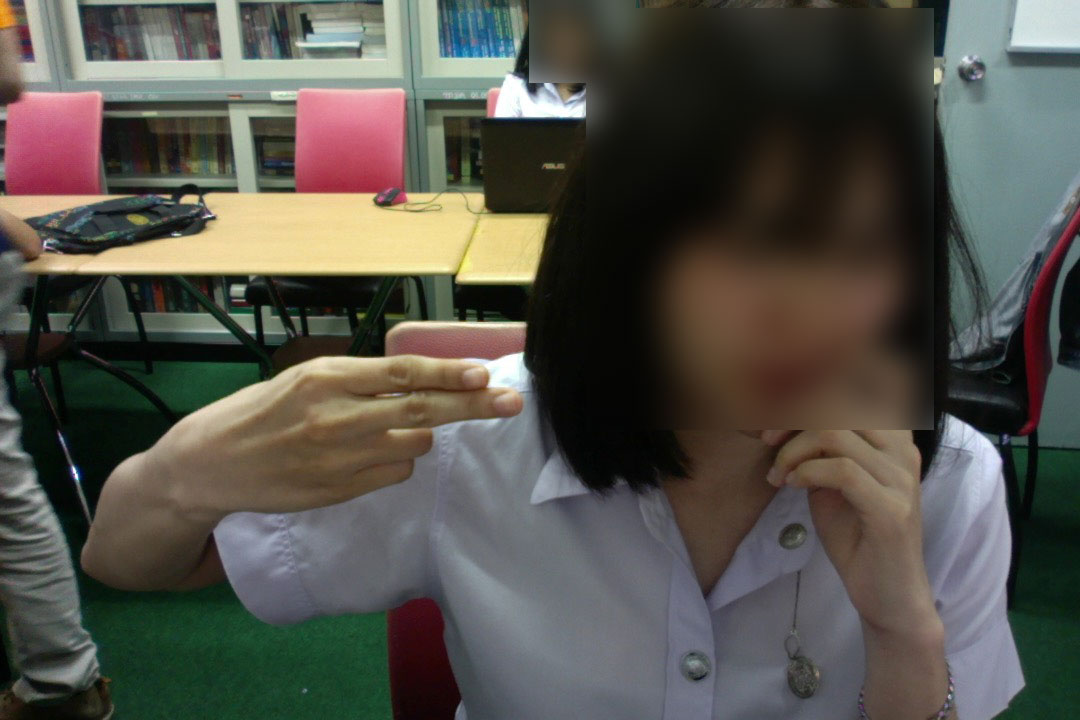hor: (108, 349, 527, 518)
